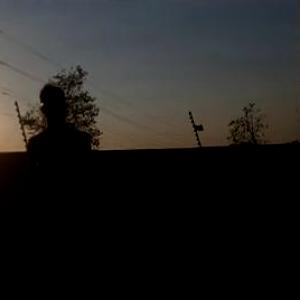follow: (22, 79, 109, 299)
